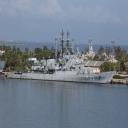Fragata: (6, 27, 113, 86)
